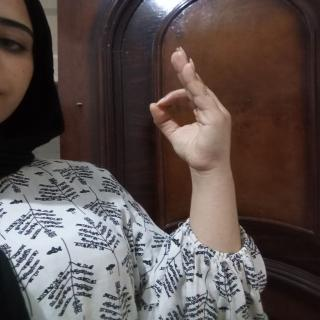Space: (144, 39, 240, 179)
